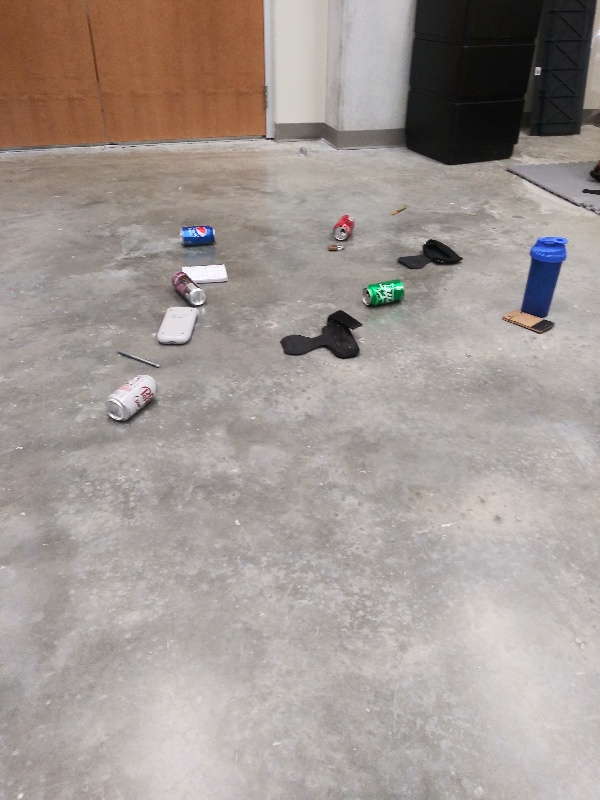can: (101, 370, 164, 425), (356, 276, 413, 312), (168, 268, 211, 307), (174, 221, 222, 250), (328, 208, 359, 246)
